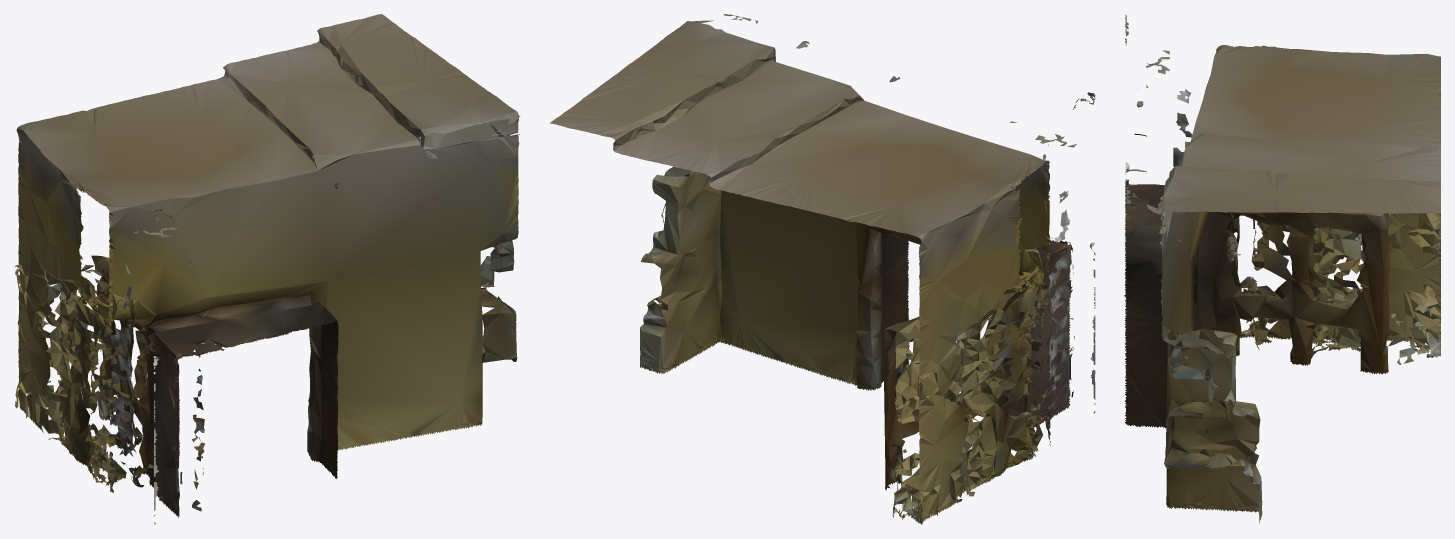
The model's file is coarse.glb.
3 renders of one model, left to right at view 1: azimuth 30°, elevation 25°; view 2: azimuth 150°, elevation 25°; view 3: azimuth 270°, elevation 25°, orthographic. The views are drawn at different scales.
Bounding box in the file's own units: 2.05 × 1.61 × 1.44.
